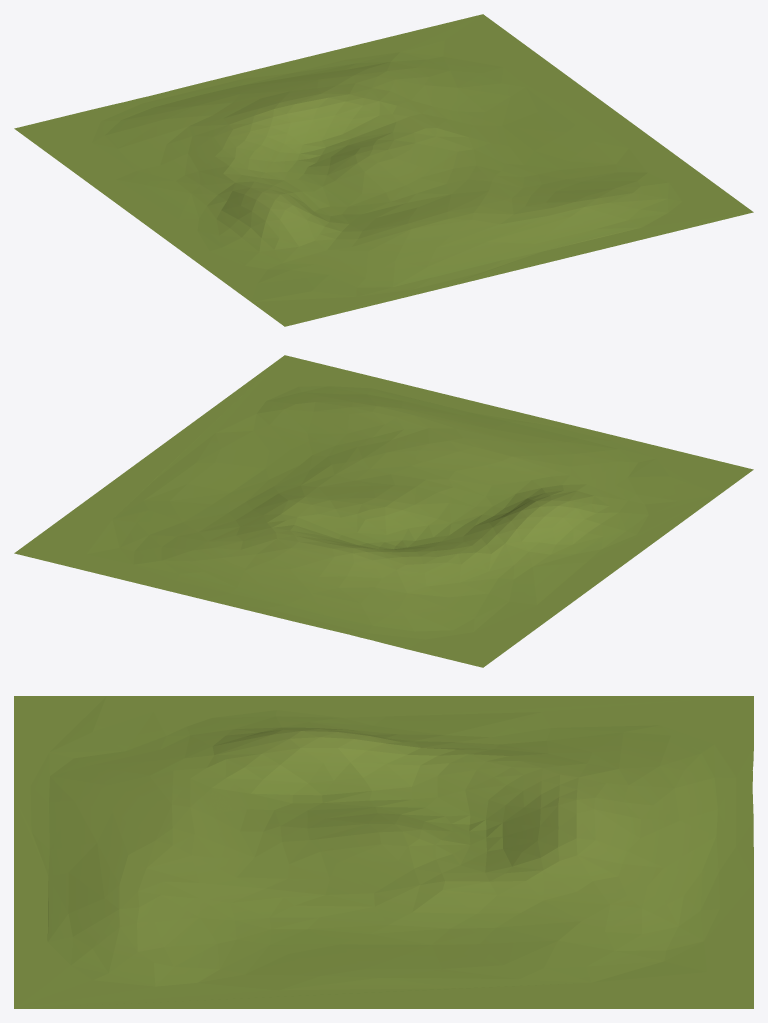
Rendered from Terrain_03.fbx.
3 renders of one model, top to bottom at view 1: azimuth 30°, elevation 25°; view 2: azimuth 150°, elevation 25°; view 3: azimuth 270°, elevation 25°, orthographic. The views are drawn at different scales.
Visible parts, largest first — view 1: Terrain_03; view 2: Terrain_03; view 3: Terrain_03.
Part boxes in pixels (x1,y1,x2,y2): Terrain_03: [14, 14, 753, 326]; Terrain_03: [14, 355, 753, 667]; Terrain_03: [14, 696, 753, 1008].
Bounding box in the file's own units: 128 × 5.61 × 128.
